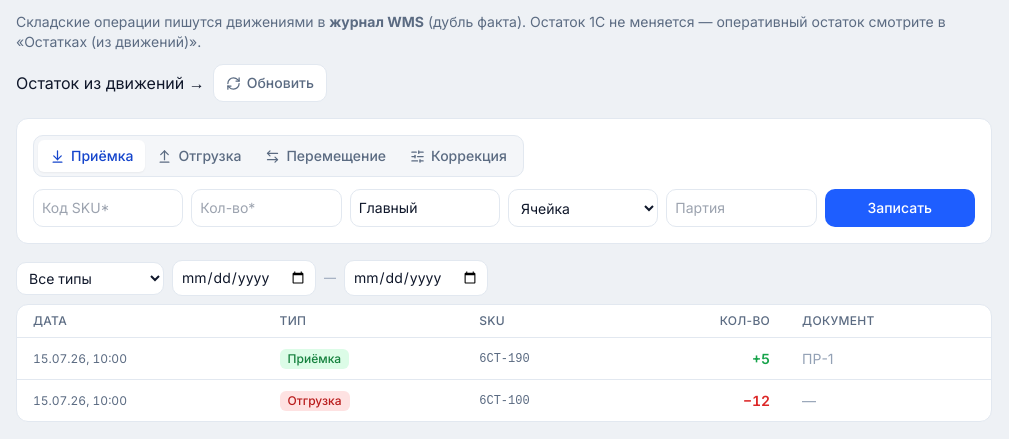
Test case: WmsMovements › фильтр по типу движения прячет строки другого типа
This screenshot has width=1009, height=439.
Expected: the text "6СТ-190" is shown, [463,338,625,380]
Select "Отгрузка" in the 2nd dropdown: (90, 278) [16,262,164,294]
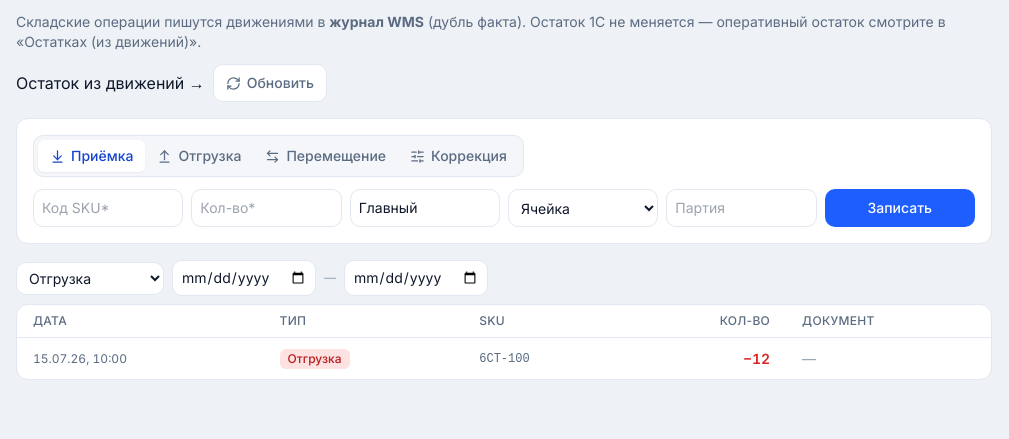
Expected: the text "6СТ-100" is shown, [463,338,625,379]
Expected: the text "6СТ-190" is gone
